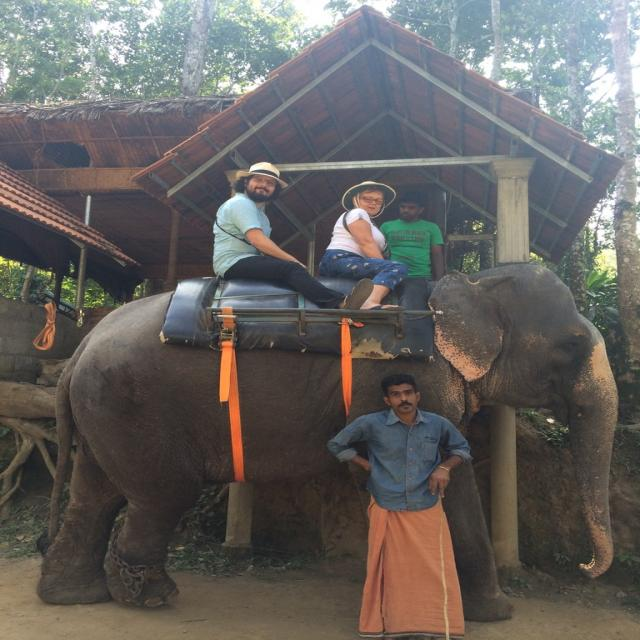elephant: (54, 260, 572, 623)
